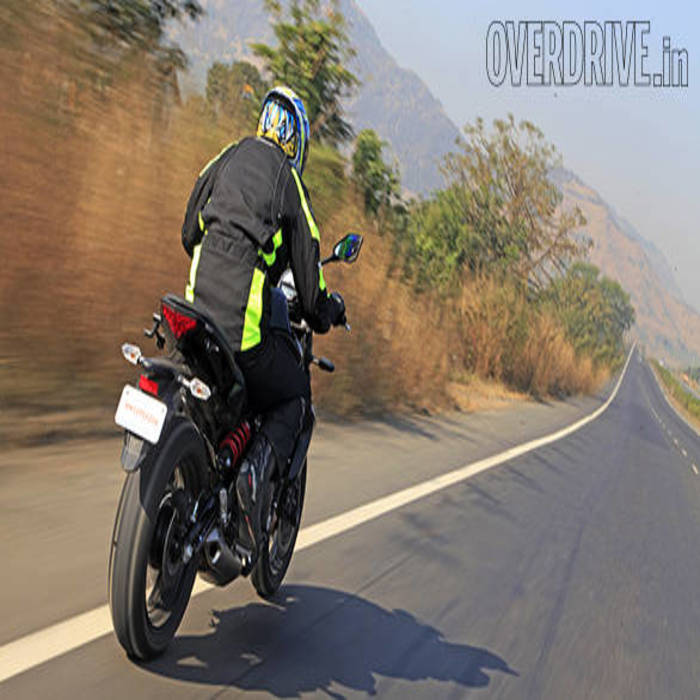h: (252, 82, 313, 177)
n: (113, 381, 169, 448)
